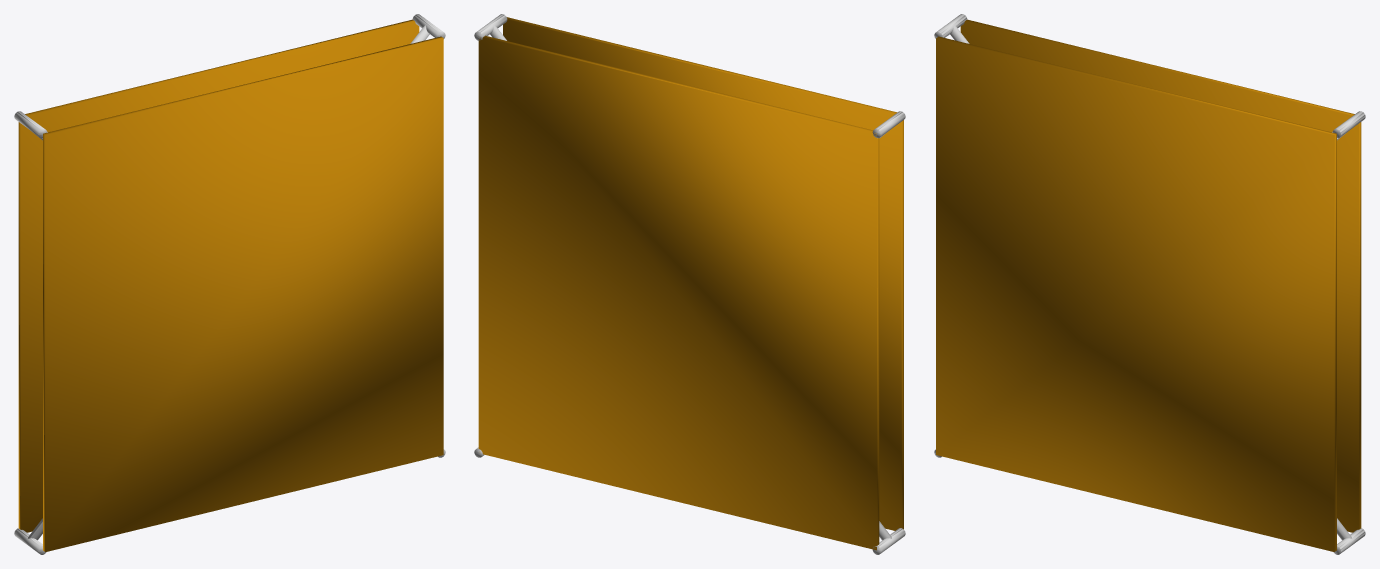
File: Antenna_Membrane1.obj
The picture shows the model from 3 angles, left to right: view 1: azimuth 30°, elevation 25°; view 2: azimuth 150°, elevation 25°; view 3: azimuth 330°, elevation 25°; orthographic projection.
Visible parts, largest first — view 1: Part__Feature, Part__Feature001; view 2: Part__Feature001, Part__Feature; view 3: Part__Feature, Part__Feature001.
Boxes of the visible parts, x1=… form: Part__Feature: x1=43, y1=36, x2=443, y2=552; Part__Feature001: x1=18, y1=19, x2=419, y2=532; Part__Feature001: x1=478, y1=35, x2=879, y2=550; Part__Feature: x1=503, y1=17, x2=903, y2=530; Part__Feature: x1=936, y1=36, x2=1336, y2=551; Part__Feature001: x1=960, y1=19, x2=1361, y2=532.
Bounding box in the file's own units: 0.96 × 0.96 × 0.11.
